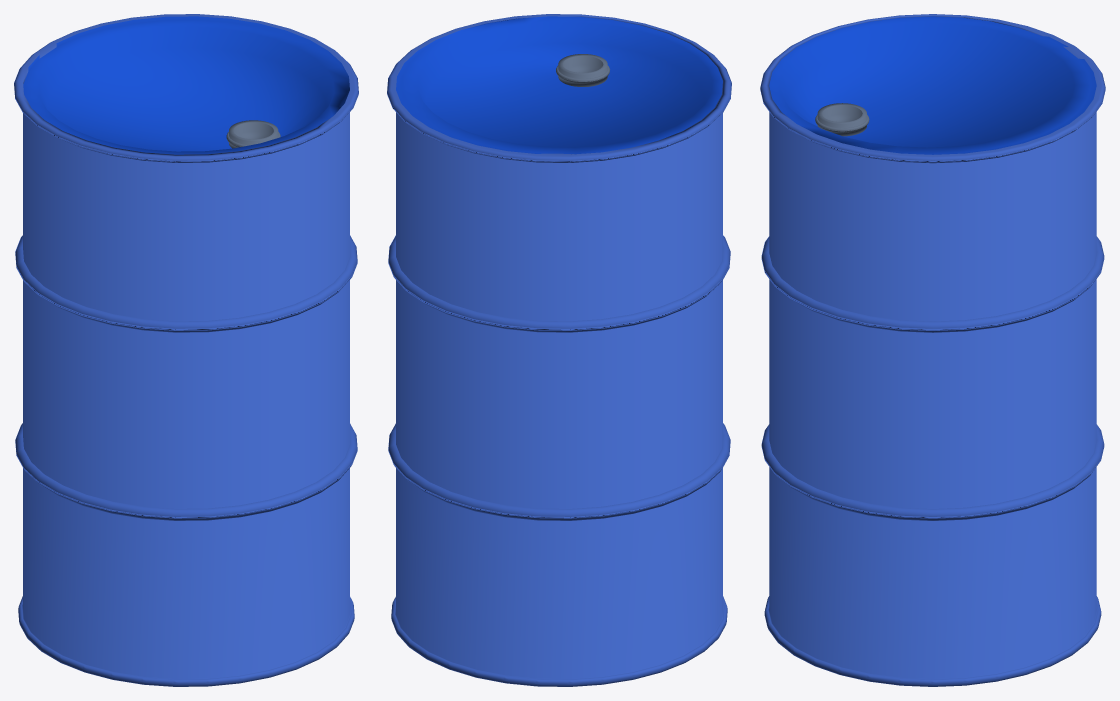
File: metal_barrel.fbx
3 renders of one model, left to right at view 1: azimuth 30°, elevation 25°; view 2: azimuth 150°, elevation 25°; view 3: azimuth 270°, elevation 25°, orthographic.
Visible parts, largest first — view 1: Cylinder, Cylinder.001, Cylinder.002; view 2: Cylinder, Cylinder.001, Cylinder.002; view 3: Cylinder, Cylinder.001, Cylinder.002.
Boxes of the visible parts, box(x1,y1,x2,y2) form: Cylinder: box(14, 14, 358, 686); Cylinder.001: box(23, 16, 349, 154); Cylinder.002: box(226, 120, 280, 148); Cylinder: box(387, 14, 731, 686); Cylinder.001: box(396, 16, 722, 154); Cylinder.002: box(556, 54, 609, 86); Cylinder: box(760, 14, 1105, 686); Cylinder.001: box(769, 16, 1096, 154); Cylinder.002: box(815, 103, 869, 136).
Size of the model in its own units: 211 by 358 by 211.
